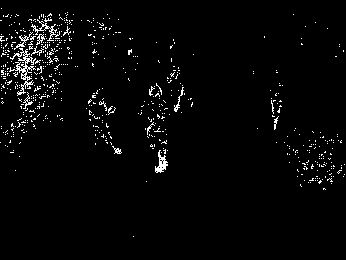person: (142, 83, 172, 174), (85, 88, 122, 156)
